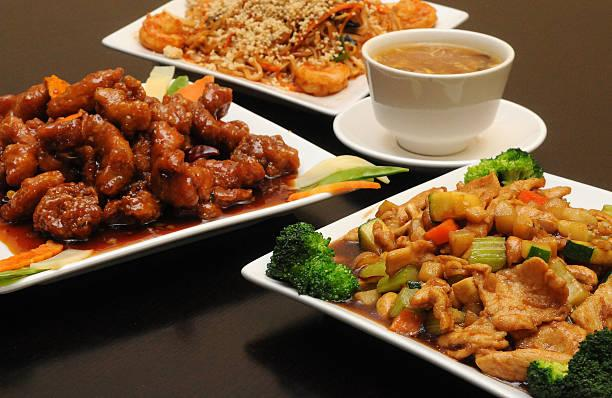Braised Crucian Carp: (246, 149, 612, 385), (0, 62, 311, 252), (131, 0, 458, 98)
